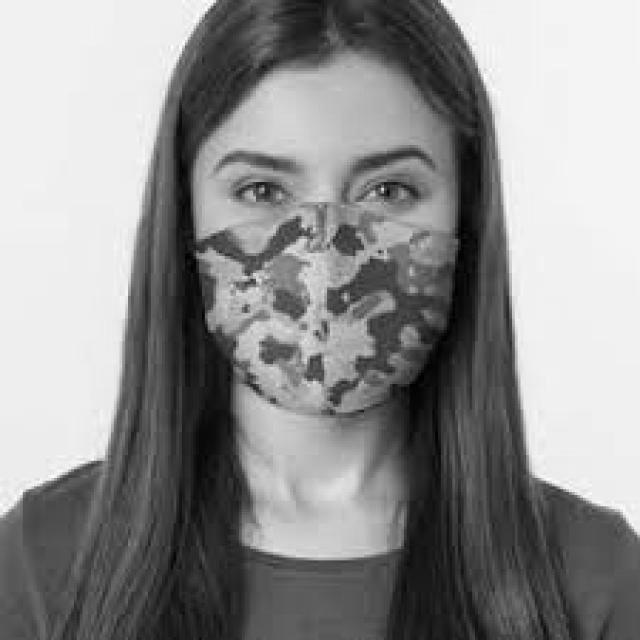fake: (183, 201, 467, 420)
real: (185, 48, 465, 425)
